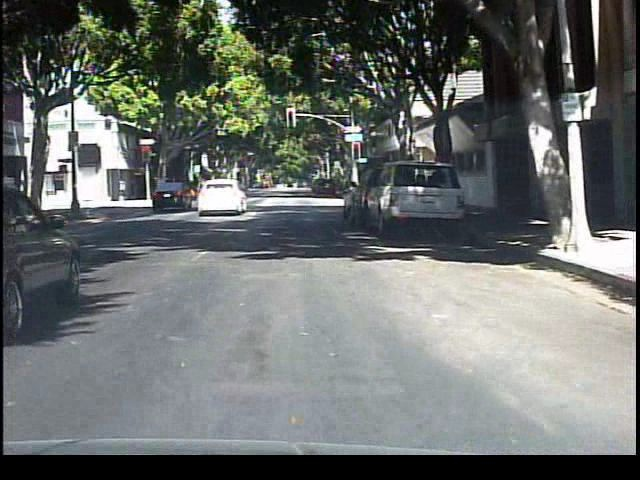person: (191, 170, 215, 215)
